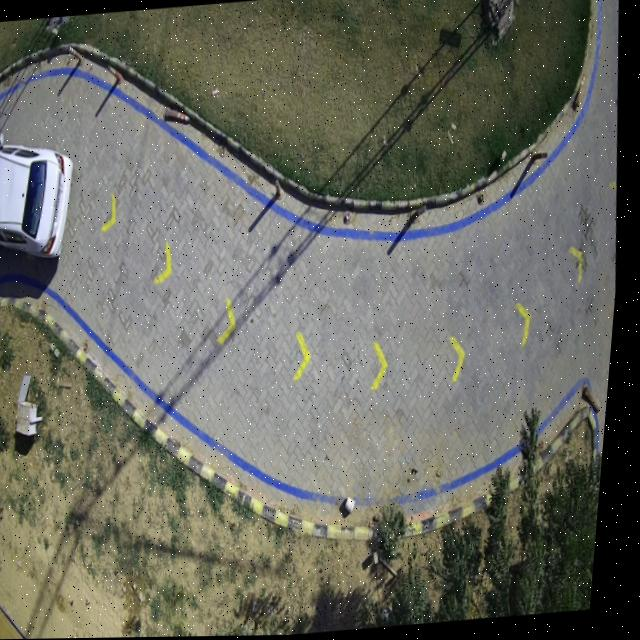car: (0, 134, 76, 257)
